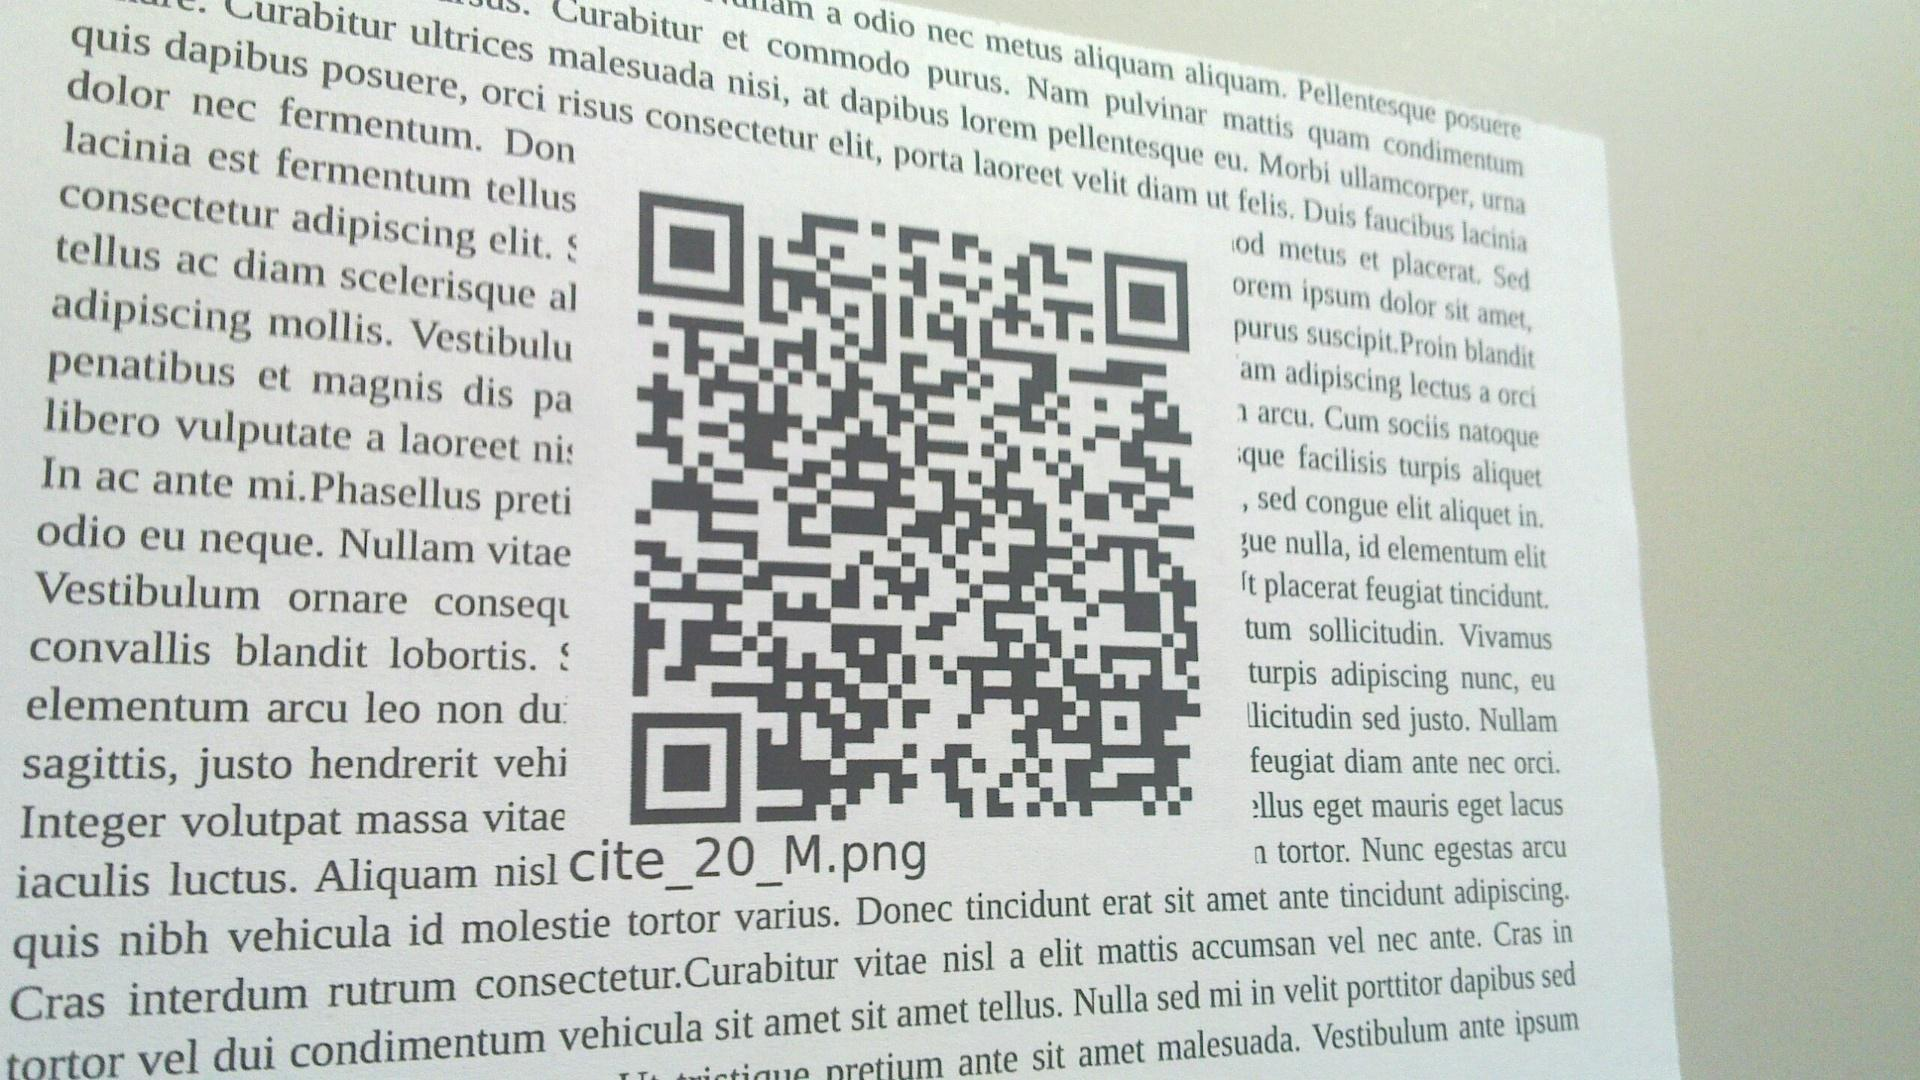qr_code: (632, 191, 1195, 825)
